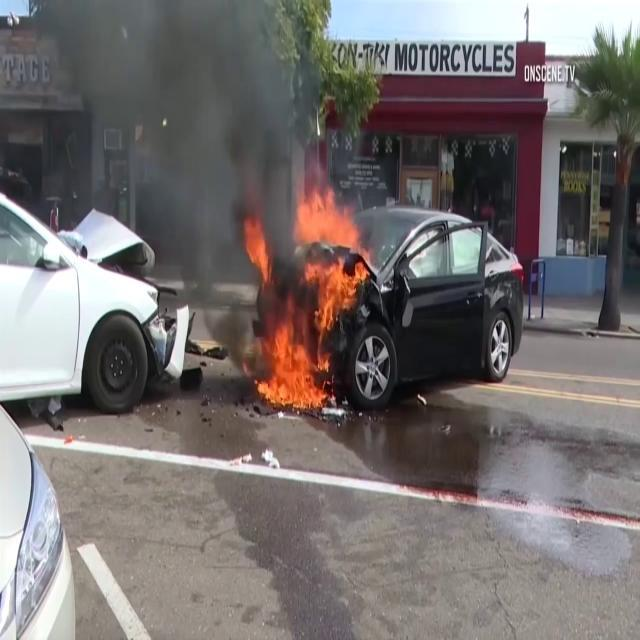Fire: (292, 190, 380, 338), (245, 312, 332, 423)
Smoke: (30, 4, 342, 282)
